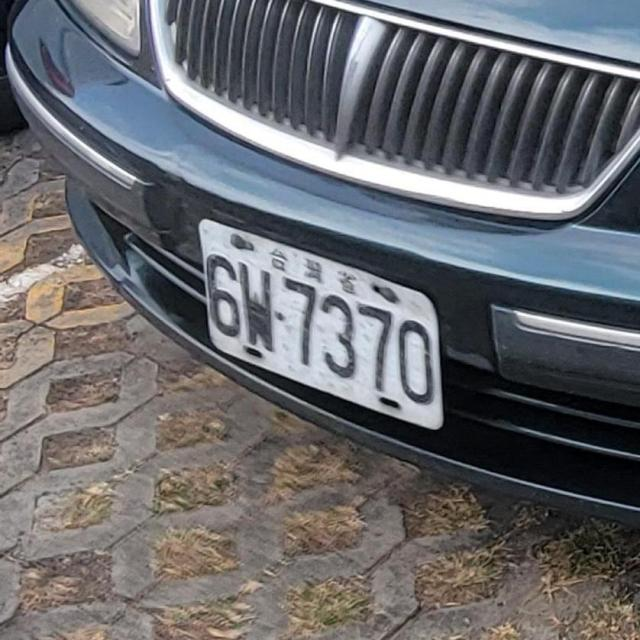W: (182, 205, 463, 460)
